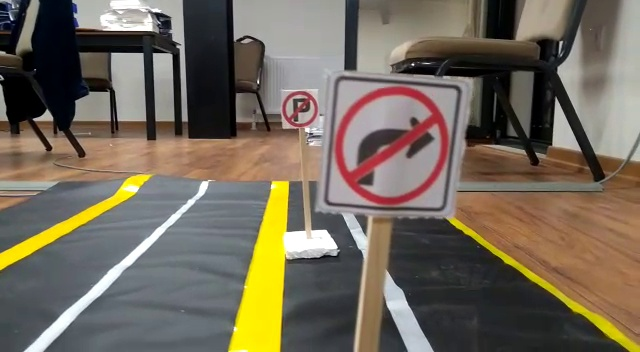park_yapilmaz: (279, 87, 321, 129)
saga_donulmez: (334, 82, 448, 209)
